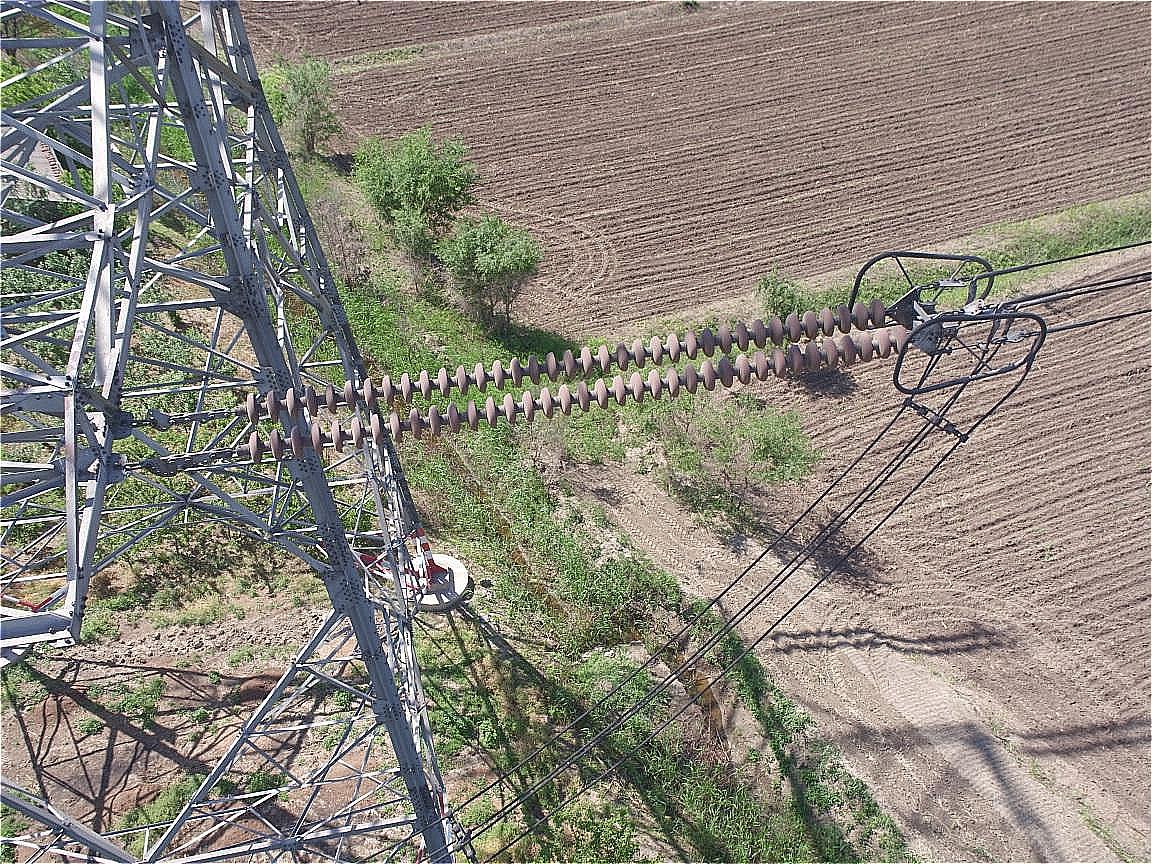insultor1: (217, 285, 916, 468)
